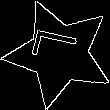L_E: (31, 32, 88, 75)
